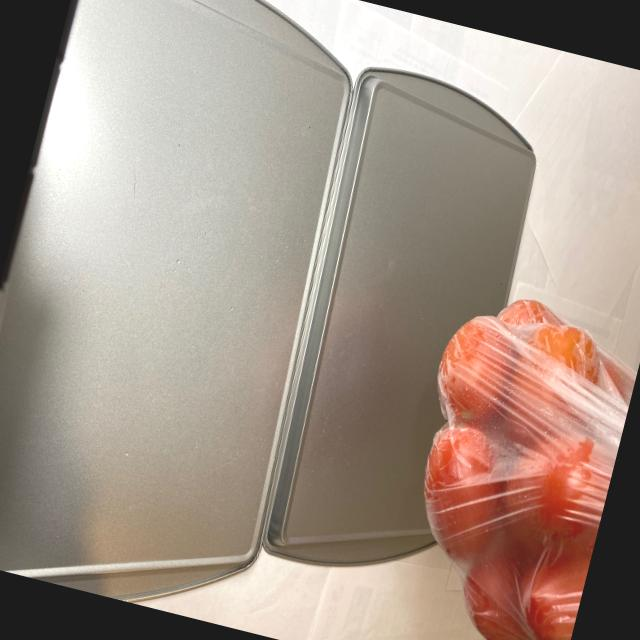tomato: (371, 280, 640, 640)
